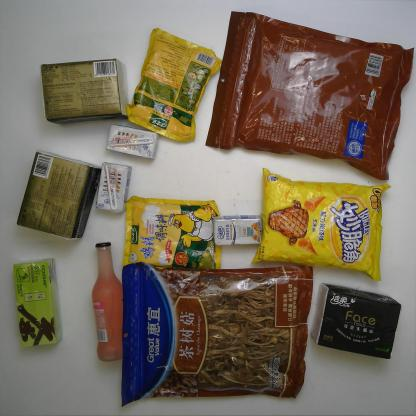Alcohol: (92, 240, 130, 363)
Dried Food: (204, 10, 414, 180), (121, 265, 314, 405)
Instant Drink: (12, 256, 62, 350)
Milk: (104, 122, 162, 160), (94, 160, 132, 214), (212, 214, 263, 247)
Puffed Food: (250, 165, 392, 280)
Seasoner: (125, 29, 224, 145), (122, 195, 223, 273)
Tissue: (17, 149, 102, 241), (310, 282, 401, 360), (40, 57, 129, 126)
